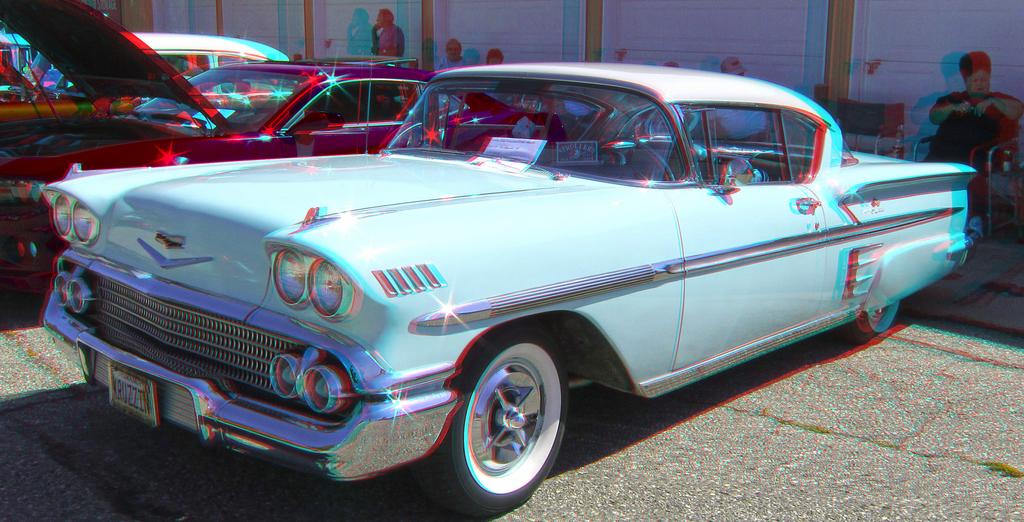mobil: (63, 18, 947, 431)
